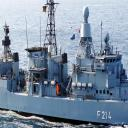Fragata: (1, 3, 128, 127)
